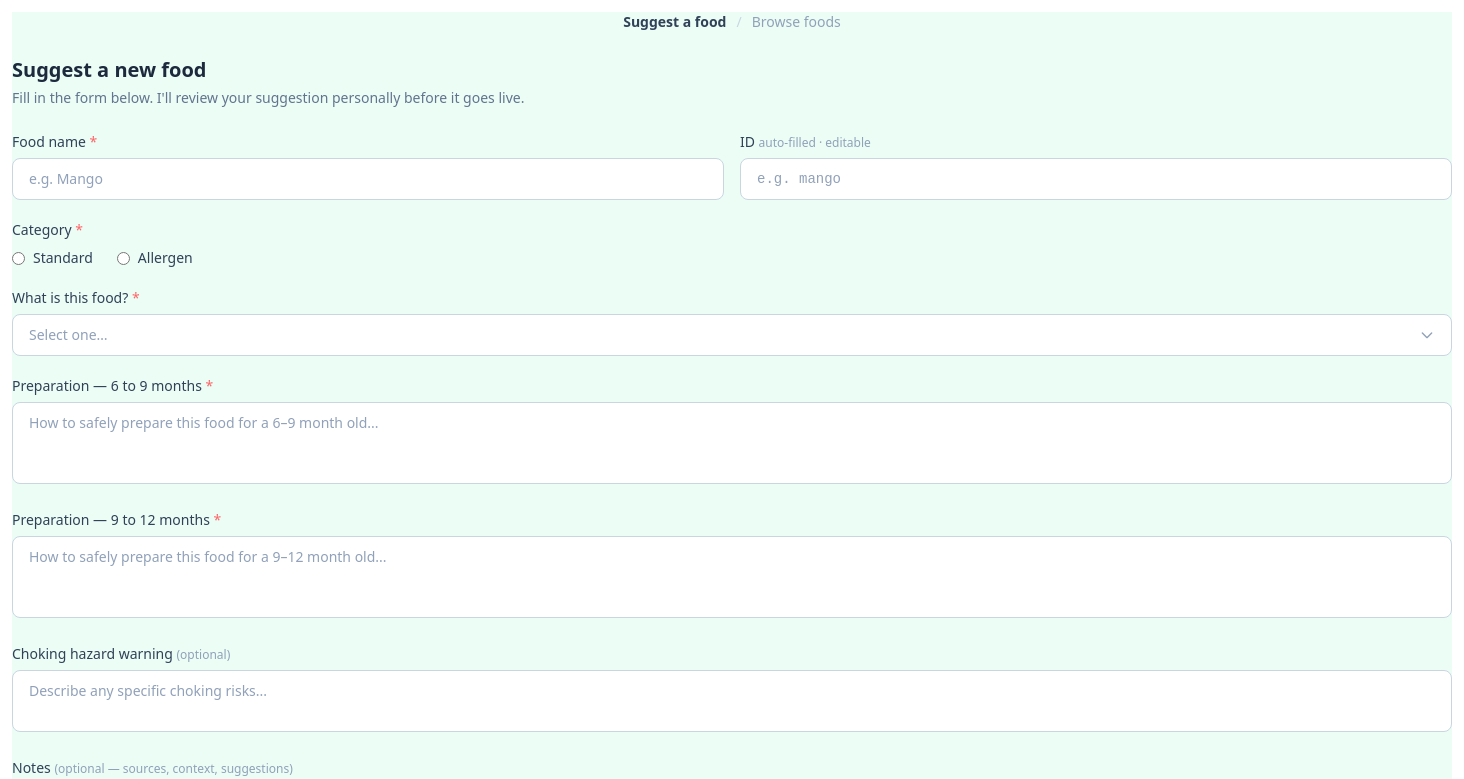
Scenario: ContributeForm — preparation character limits › shows a live hint as soon as the user starts typing below the minimum
Type "Too short." into the text box with placeholder "How to safely prepare this food for a 6–9 month old...".
click(732, 443); type("Too short.")  # box [12, 402, 1452, 484]
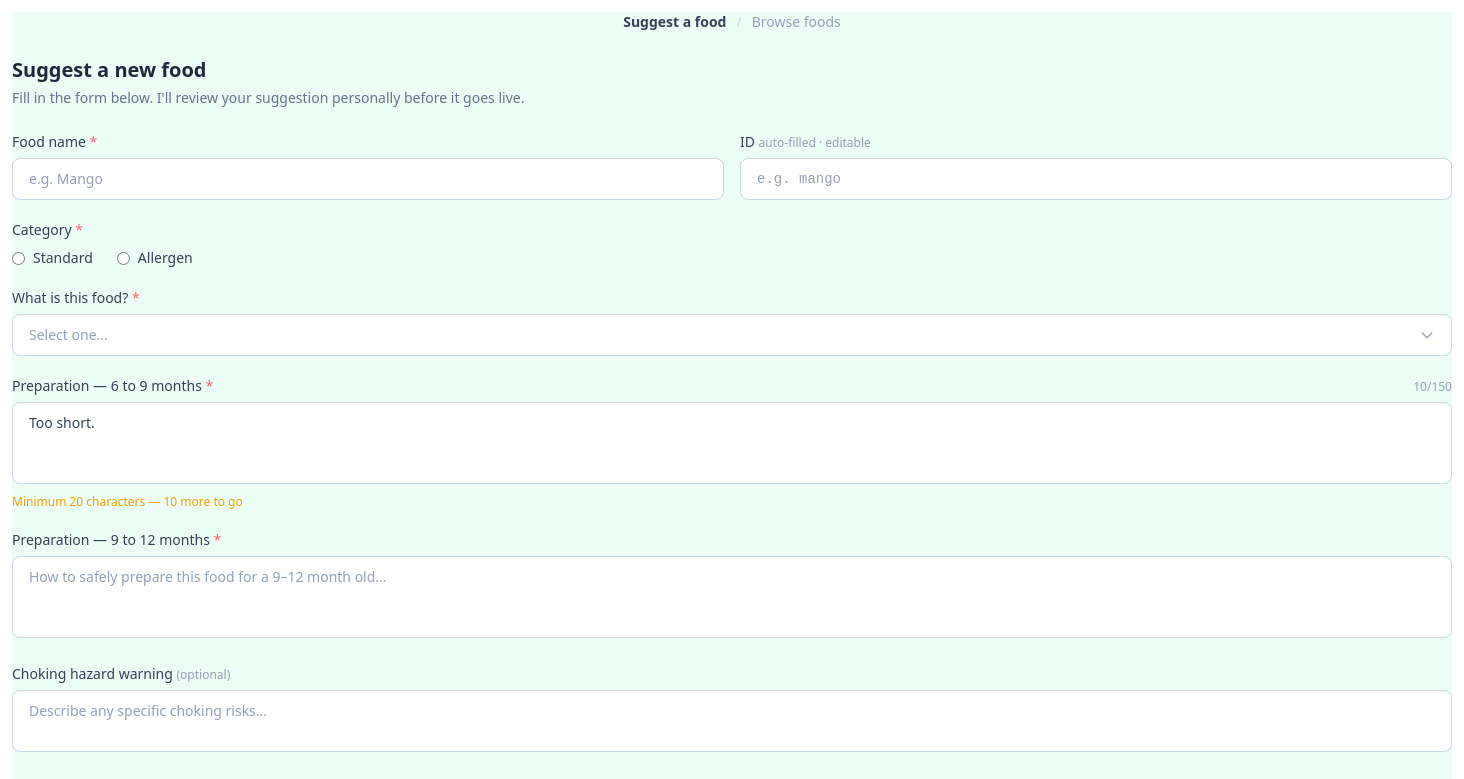
expect the text "Minimum 20 characters — 10 more to go" is shown: met, box [12, 493, 243, 510]
